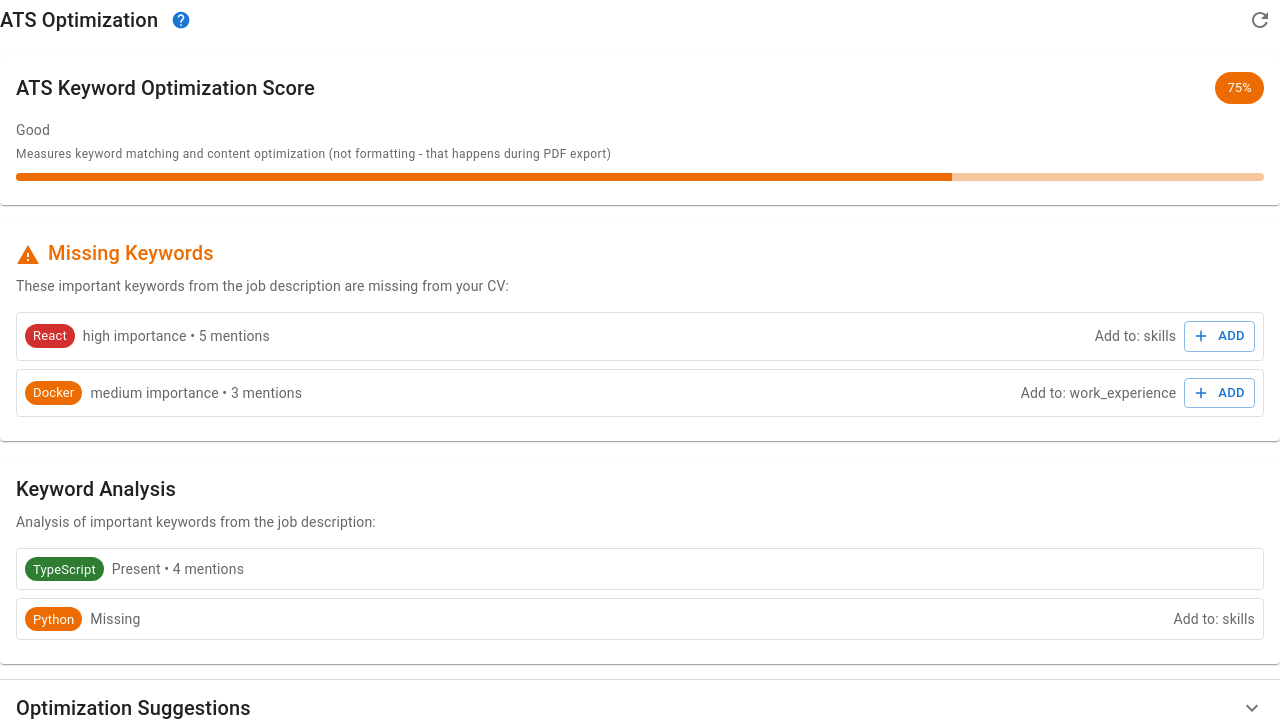
ATSOptimization › Missing Keywords › opens dialog when add keyword button clicked
Click the button "Add" in the row of "high" at x=1220, y=336, box [1184,321,1255,352]
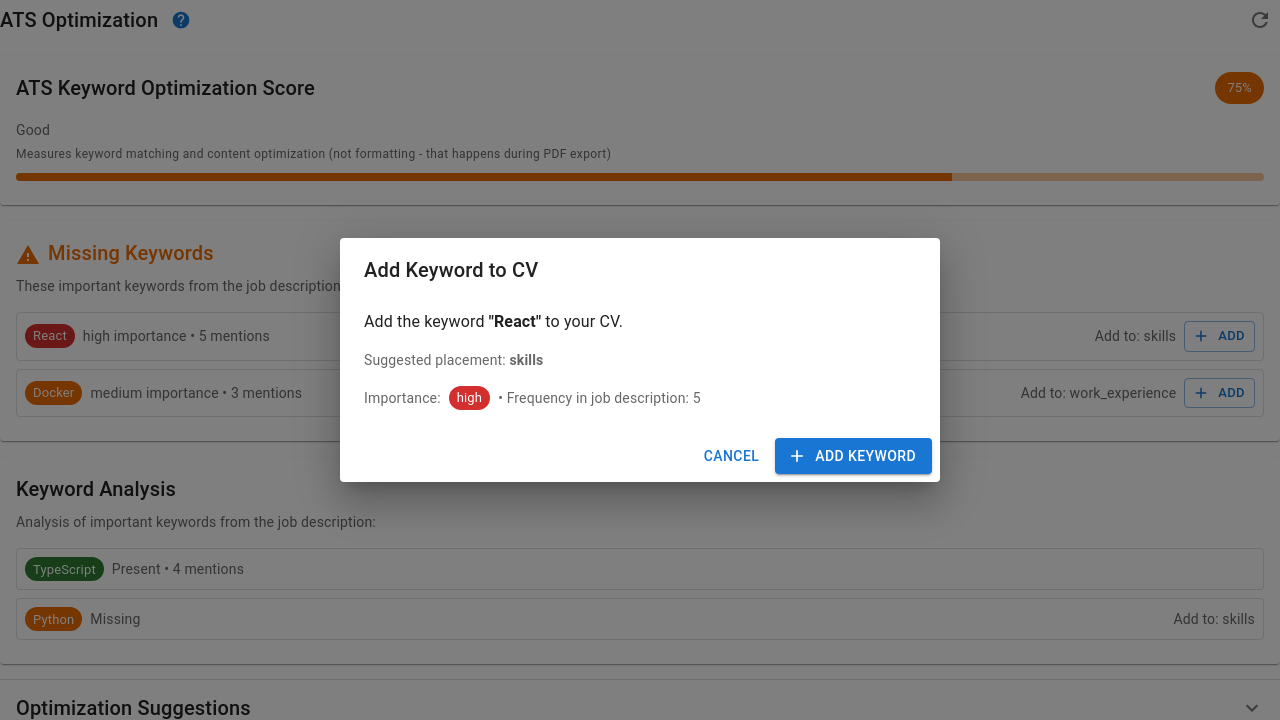
Result: the heading "Add Keyword to CV" is shown at [364,258,538,282]
Result: the text "Add the keyword \"React\" to your CV." is shown at [364,312,623,331]
